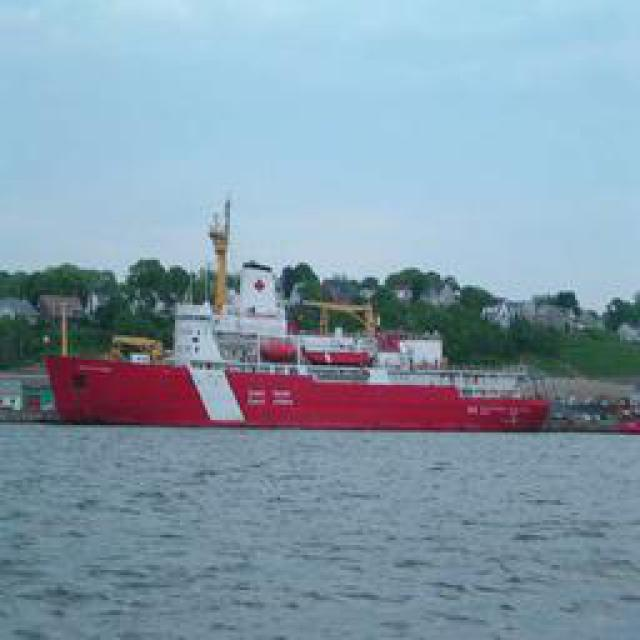Ship: (25, 331, 558, 436)
